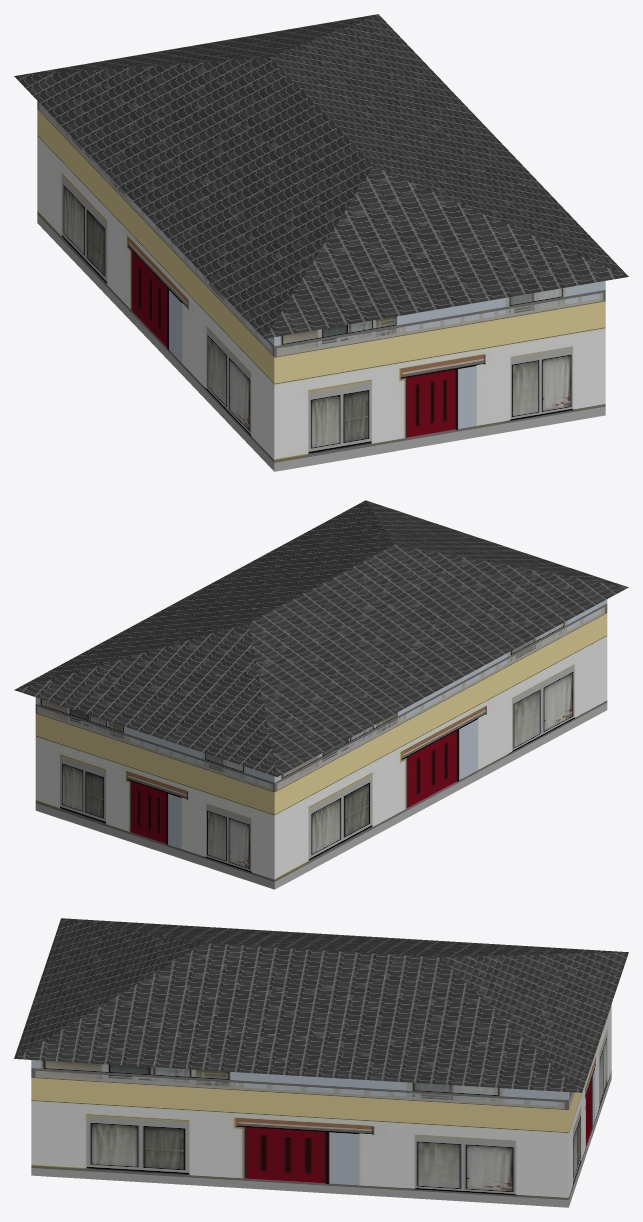
3 views of the same model, one above another, from view 1: azimuth 30°, elevation 25°; view 2: azimuth 150°, elevation 25°; view 3: azimuth 270°, elevation 25° (orthographic). The views are drawn at different scales.
Visible parts, largest first — view 1: CityEngineMaterial_16_m, CityEngineMaterial_15_m; view 2: CityEngineMaterial_16_m, CityEngineMaterial_15_m; view 3: CityEngineMaterial_16_m, CityEngineMaterial_15_m.
Part boxes in pixels (<box>): CityEngineMaterial_16_m: <box>14,14,628,338</box>; CityEngineMaterial_15_m: <box>37,101,605,471</box>; CityEngineMaterial_16_m: <box>14,500,628,776</box>; CityEngineMaterial_15_m: <box>35,599,607,889</box>; CityEngineMaterial_16_m: <box>14,918,628,1092</box>; CityEngineMaterial_15_m: <box>31,1004,611,1207</box>.
Bounding box in the file's own units: 25.14 × 11.93 × 37.41.
